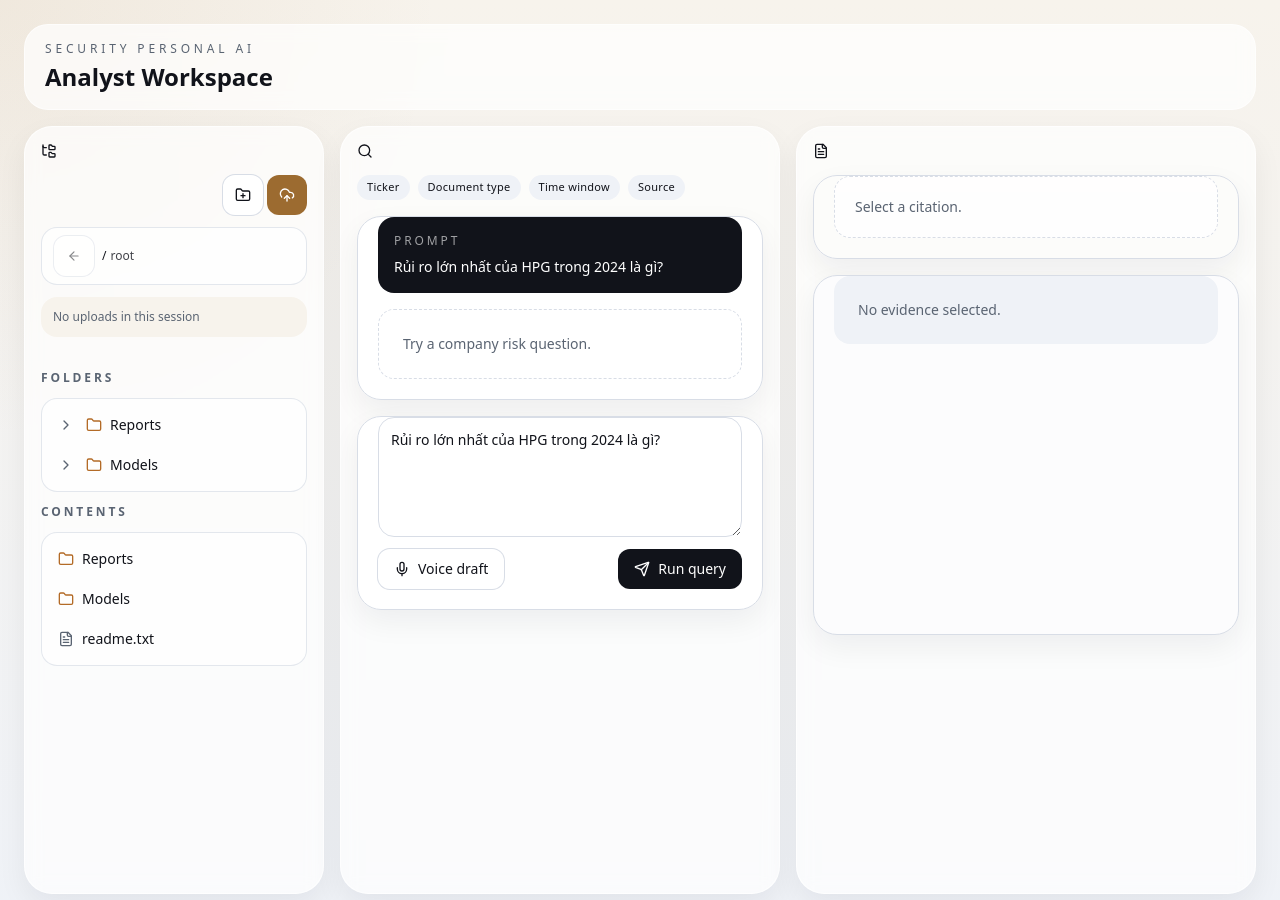
AnalystWorkspace › injects a voice draft into the query composer
The image size is (1280, 900).
Click the button "Voice draft" at coordinates (441, 568), box [378, 548, 504, 588]
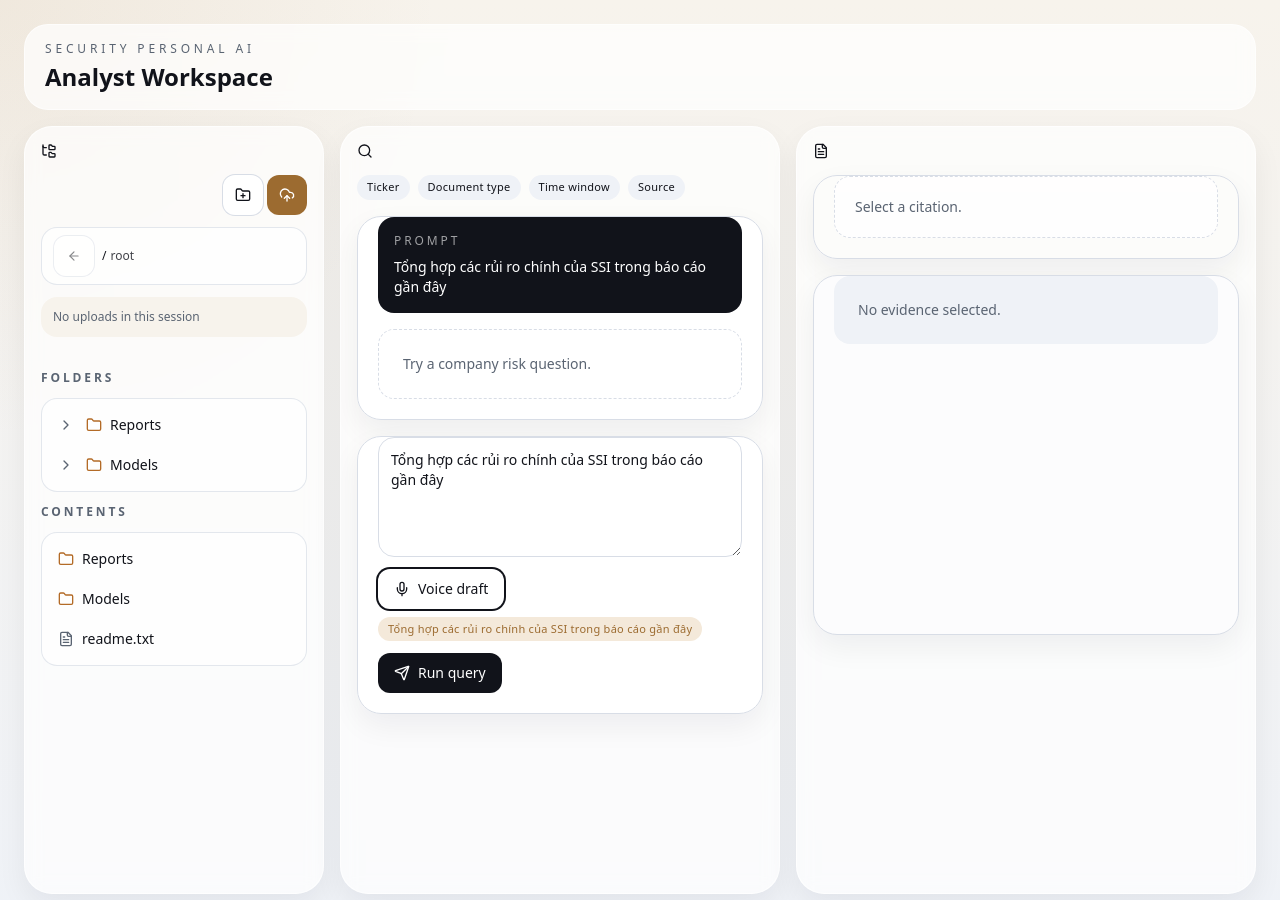
Check: the text box named "Query input" holds "Tổng hợp các rủi ro chính của SSI trong báo cáo gần đây", box [378, 436, 742, 556]
Check: the text with test id "current-prompt" reads "Tổng hợp các rủi ro chính của SSI trong báo cáo gần đây", box [394, 256, 706, 296]
